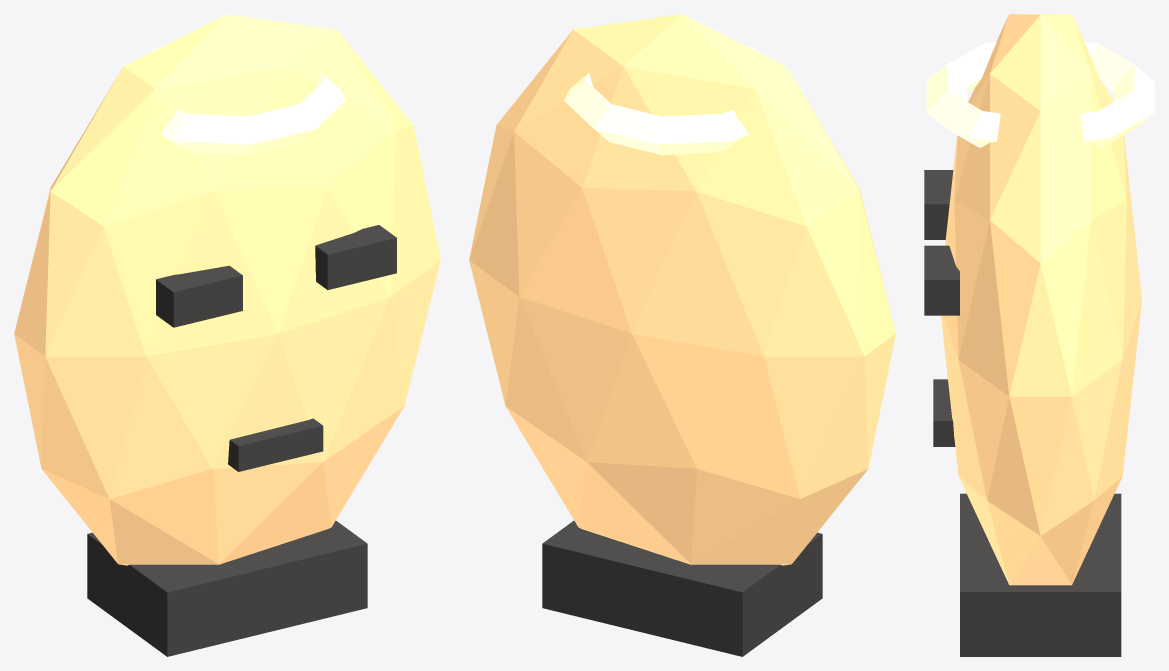
Rendered from Reliquia_Mascara.fbx.
The picture shows the model from 3 angles, left to right: view 1: azimuth 30°, elevation 25°; view 2: azimuth 150°, elevation 25°; view 3: azimuth 270°, elevation 25°; orthographic projection.
Parts seen in each view (by area): view 1: Reliquia_Mascara; view 2: Reliquia_Mascara; view 3: Reliquia_Mascara.
Boxes of the visible parts, x1,y1,x2,y2 form: Reliquia_Mascara: (14,14,440,656); Reliquia_Mascara: (469,14,895,656); Reliquia_Mascara: (924,14,1154,656).
Size of the model in its own units: 25.68 by 36.55 by 12.87.
